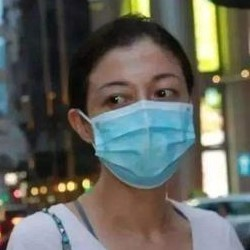mask: (86, 94, 197, 191)
